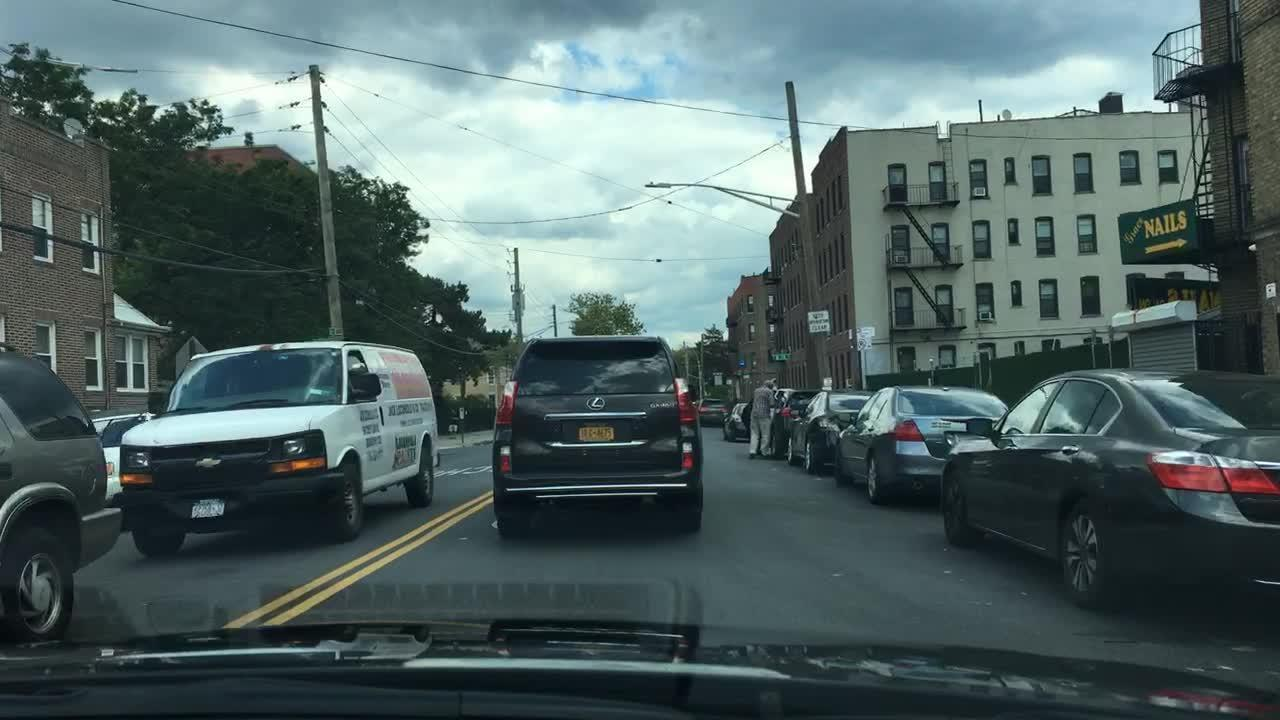chevrolet: (197, 452, 227, 473)
lexus: (584, 390, 609, 414)
